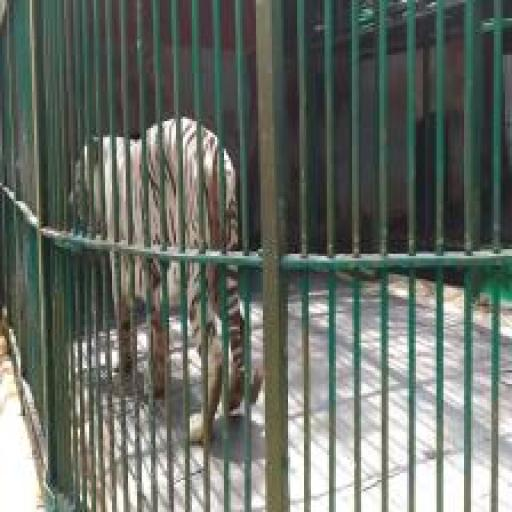Tiger: (206, 265, 223, 433), (181, 117, 200, 250), (201, 126, 221, 251), (227, 265, 244, 411), (162, 119, 180, 248), (151, 260, 165, 395), (146, 124, 160, 245), (129, 139, 144, 244), (186, 263, 202, 355), (120, 254, 132, 368), (225, 149, 238, 251), (103, 135, 115, 241), (116, 137, 127, 242), (92, 137, 102, 234), (168, 261, 180, 305), (134, 256, 145, 300), (251, 370, 263, 404), (190, 414, 203, 444), (77, 162, 82, 218), (111, 256, 116, 305), (84, 146, 89, 193)
